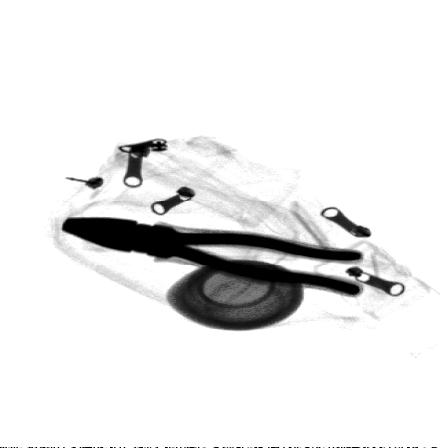Pliers: (60, 215, 365, 299)
